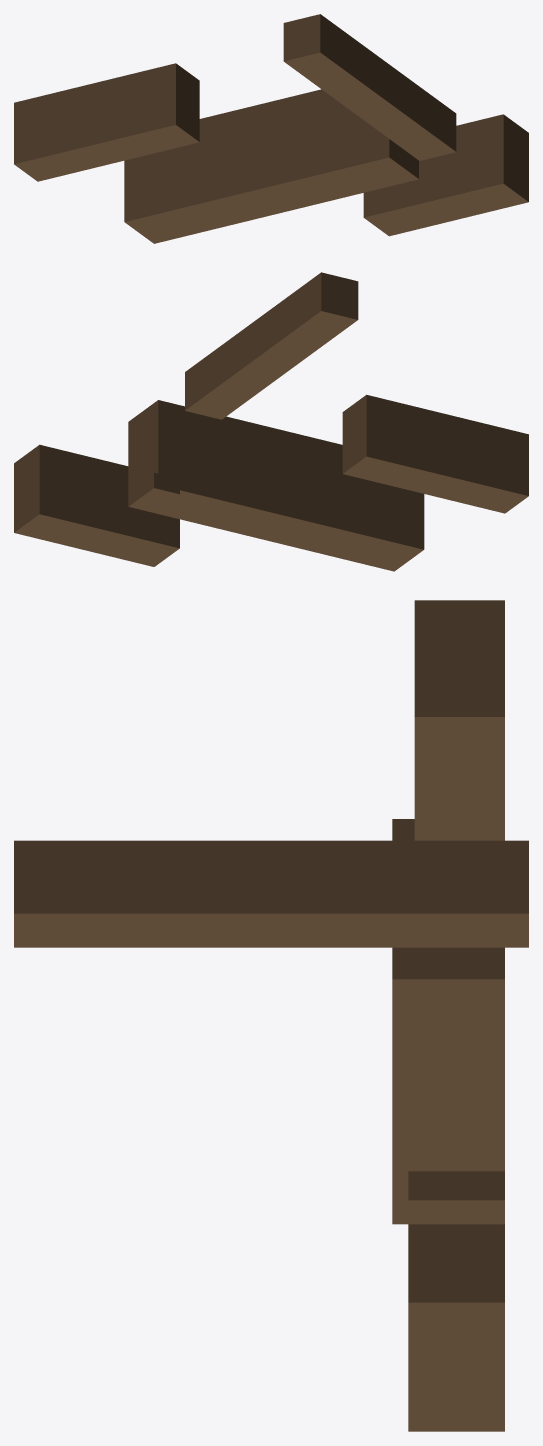
The model's file is SM_HarlowWreckage_Alpha.gltf.
3 renders of one model, top to bottom at view 1: azimuth 30°, elevation 25°; view 2: azimuth 150°, elevation 25°; view 3: azimuth 270°, elevation 25°, orthographic. The views are drawn at different scales.
Visible parts, largest first — view 1: SM_HarlowWreckage_Alpha; view 2: SM_HarlowWreckage_Alpha; view 3: SM_HarlowWreckage_Alpha.
Part boxes in pixels (x1,y1,x2,y2): SM_HarlowWreckage_Alpha: [14, 14, 528, 243]; SM_HarlowWreckage_Alpha: [14, 272, 528, 571]; SM_HarlowWreckage_Alpha: [14, 600, 528, 1431].
Size of the model in its own units: 6.65 by 2.7 by 3.2.
